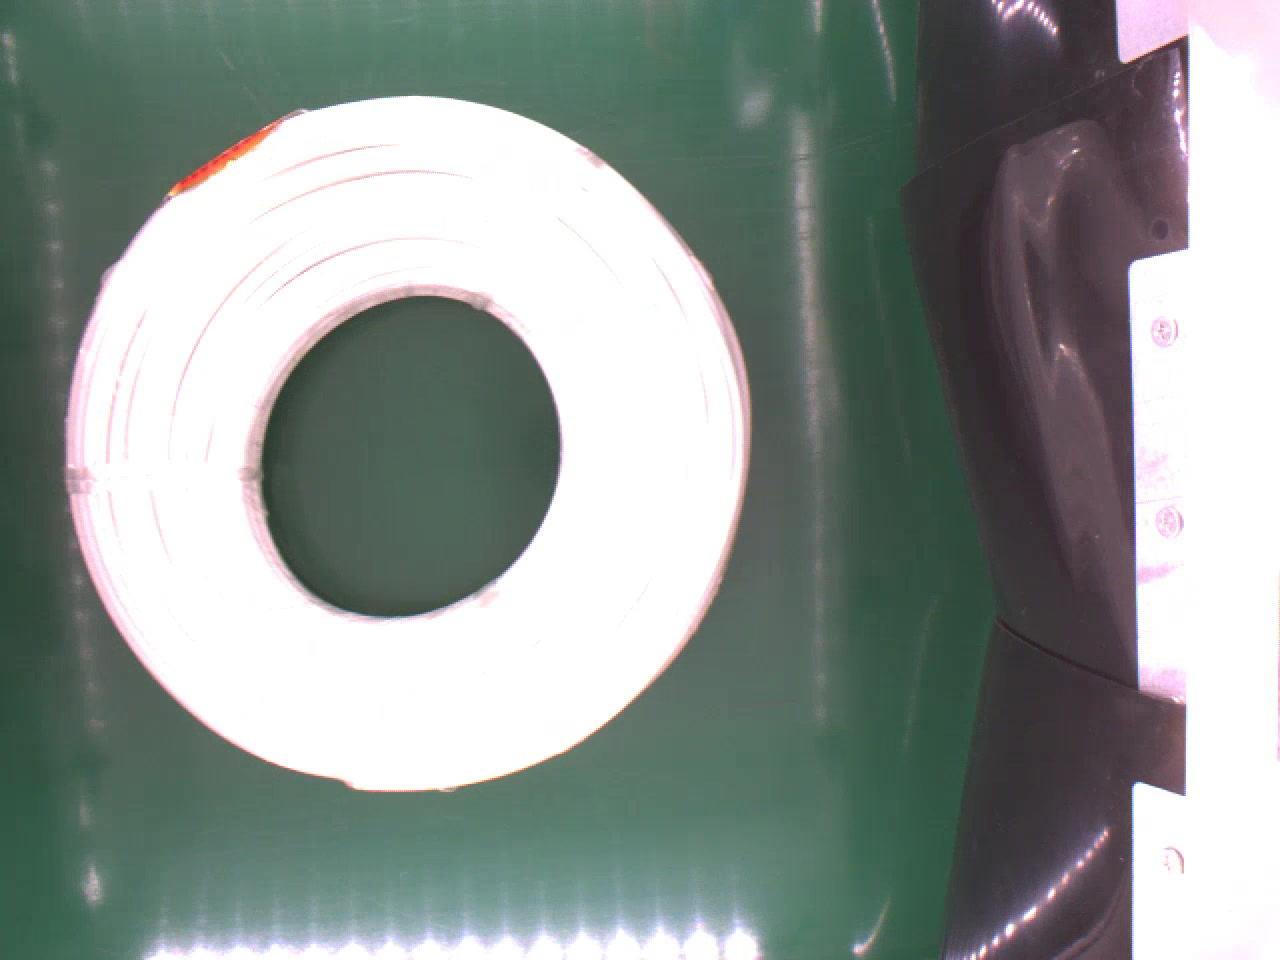white: (65, 92, 756, 801)
